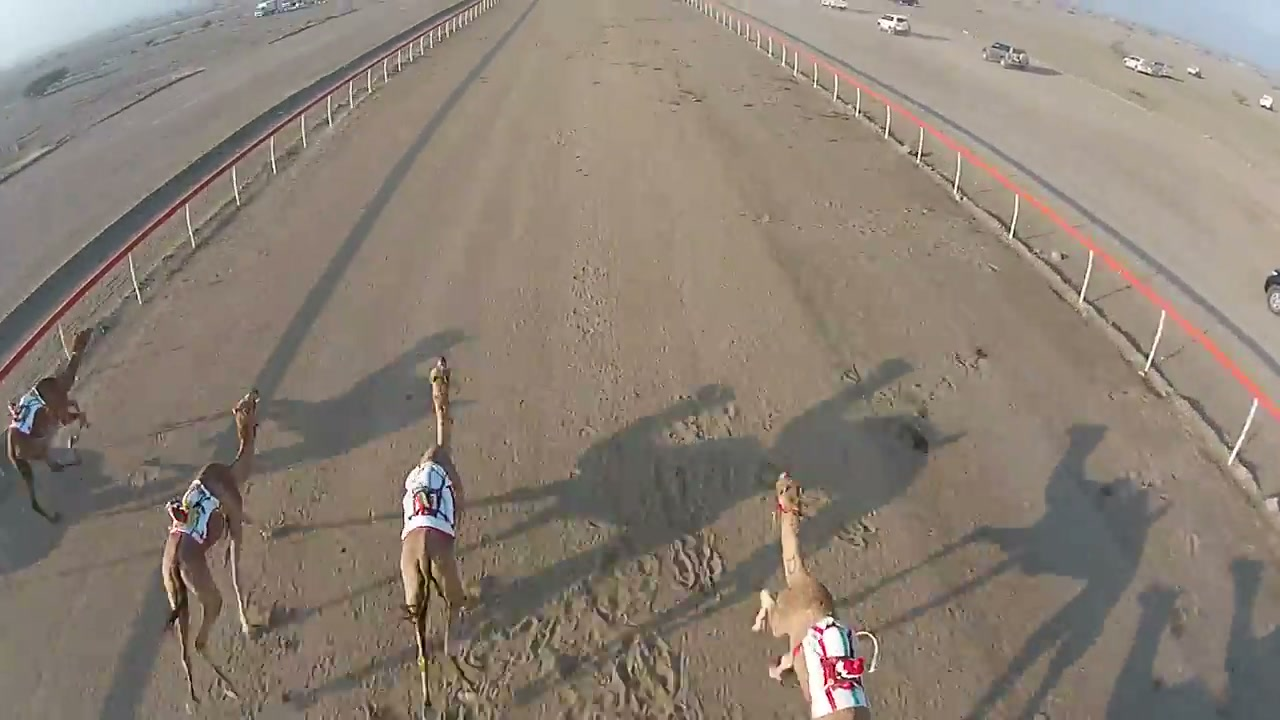animal_foot_print: (551, 238, 653, 480), (215, 560, 369, 715)
